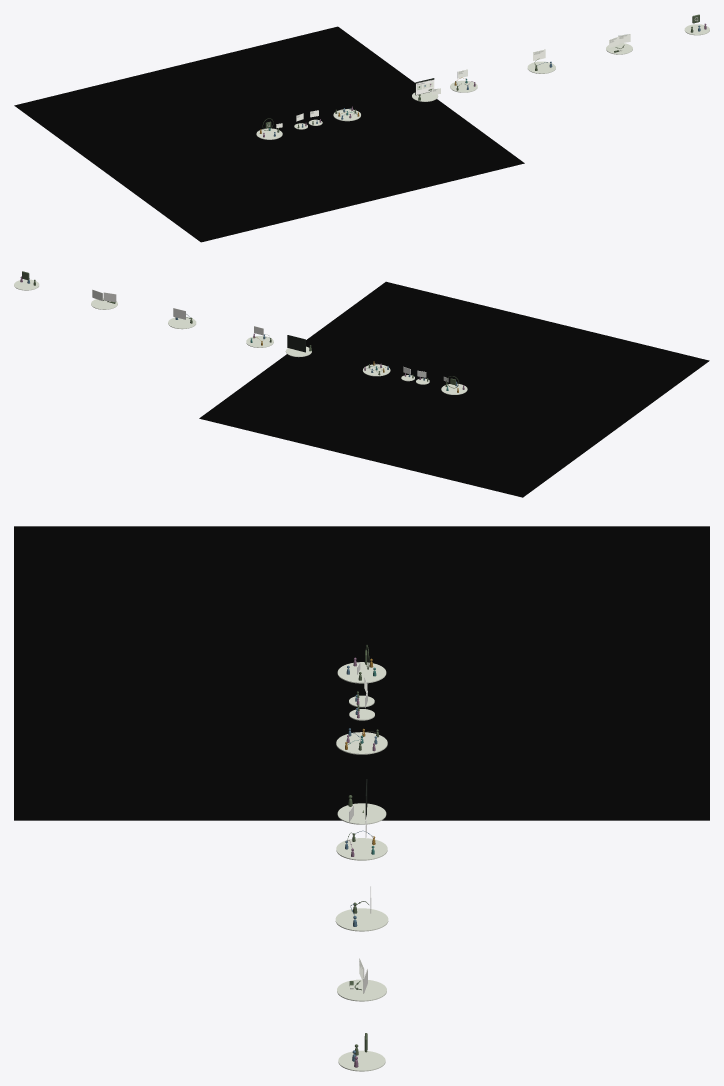
Rendered from simulation-models.glb.
3 renders of one model, top to bottom at view 1: azimuth 30°, elevation 25°; view 2: azimuth 150°, elevation 25°; view 3: azimuth 270°, elevation 25°, orthographic. The views are drawn at different scales.
Visible parts, largest first — view 1: object 1, Product phase, Efficiency and budgets, Evidence and echoes; view 2: object 1, Efficiency and budgets, Product phase, Evidence and echoes; view 3: object 1, Evidence and echoes, Efficiency and budgets, Social phase, Product phase, Synthetic population, Inside the simulation.
Part boxes in pixels (x1=…): object 1: x1=14, y1=26, x2=524, y2=242; Product phase: x1=412, y1=78, x2=440, y2=101; Efficiency and budgets: x1=606, y1=33, x2=632, y2=54; Evidence and echoes: x1=527, y1=49, x2=555, y2=73; object 1: x1=199, y1=281, x2=709, y2=497; Efficiency and budgets: x1=91, y1=289, x2=117, y2=309; Product phase: x1=285, y1=335, x2=311, y2=357; Evidence and echoes: x1=168, y1=308, x2=196, y2=329; object 1: x1=14, y1=526, x2=709, y2=820; Evidence and echoes: x1=335, y1=886, x2=388, y2=931; Efficiency and budgets: x1=337, y1=958, x2=386, y2=1001; Social phase: x1=336, y1=816, x2=387, y2=860; Product phase: x1=337, y1=779, x2=386, y2=824; Synthetic population: x1=336, y1=731, x2=387, y2=754; Inside the simulation: x1=337, y1=645, x2=386, y2=683.
Size of the model in its own units: 185 by 4.65 by 100.
78 materials, 11 textured.
